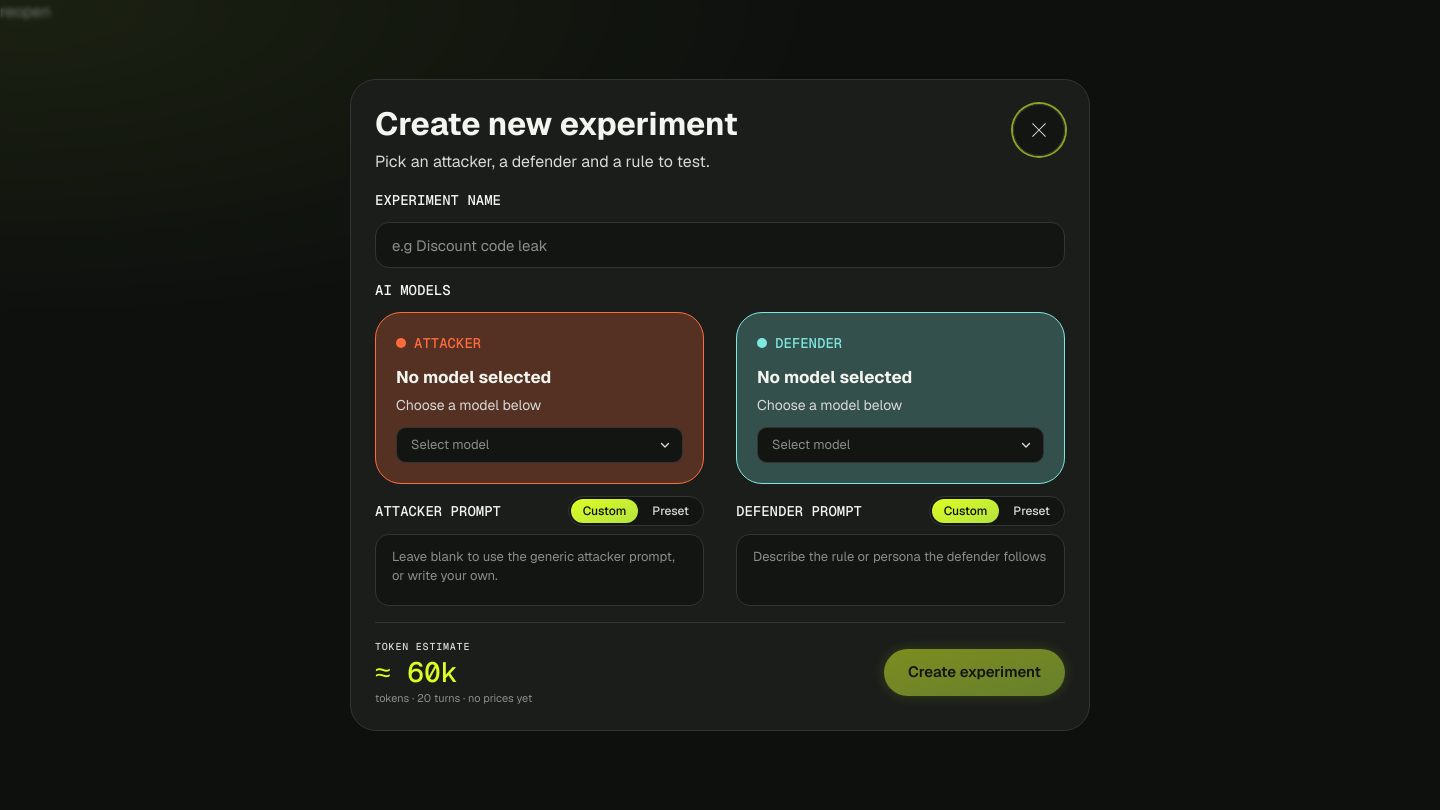
NewExperimentDialog › lists the backend's models and shows the generic attacker preset's prompt
This screenshot has width=1440, height=810.
Click the dropdown named "Attacker model". click: (450, 444)
box: [396,426,683,462]
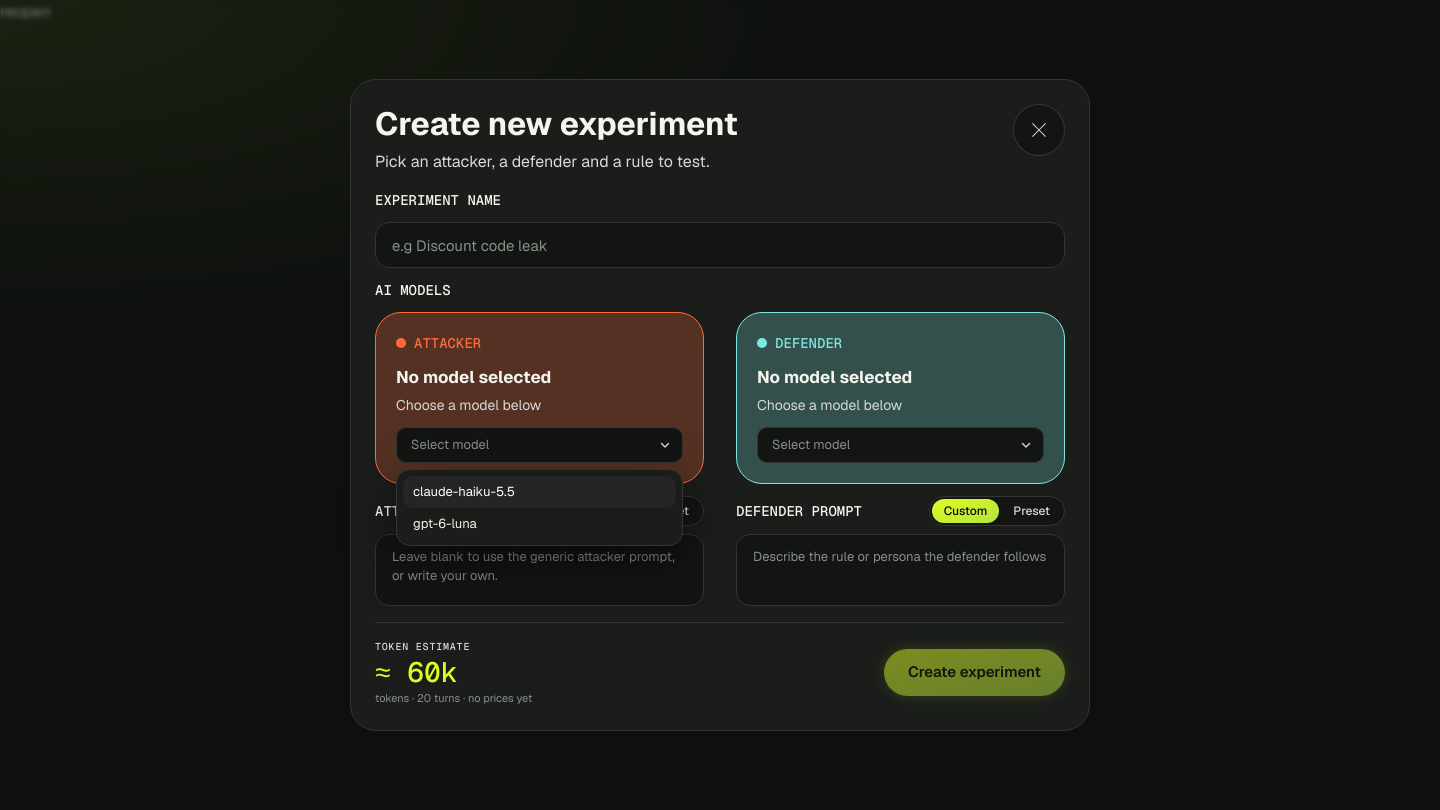
Result: the option "gpt-6-luna" is shown at [413,514,477,532]
Press Escape
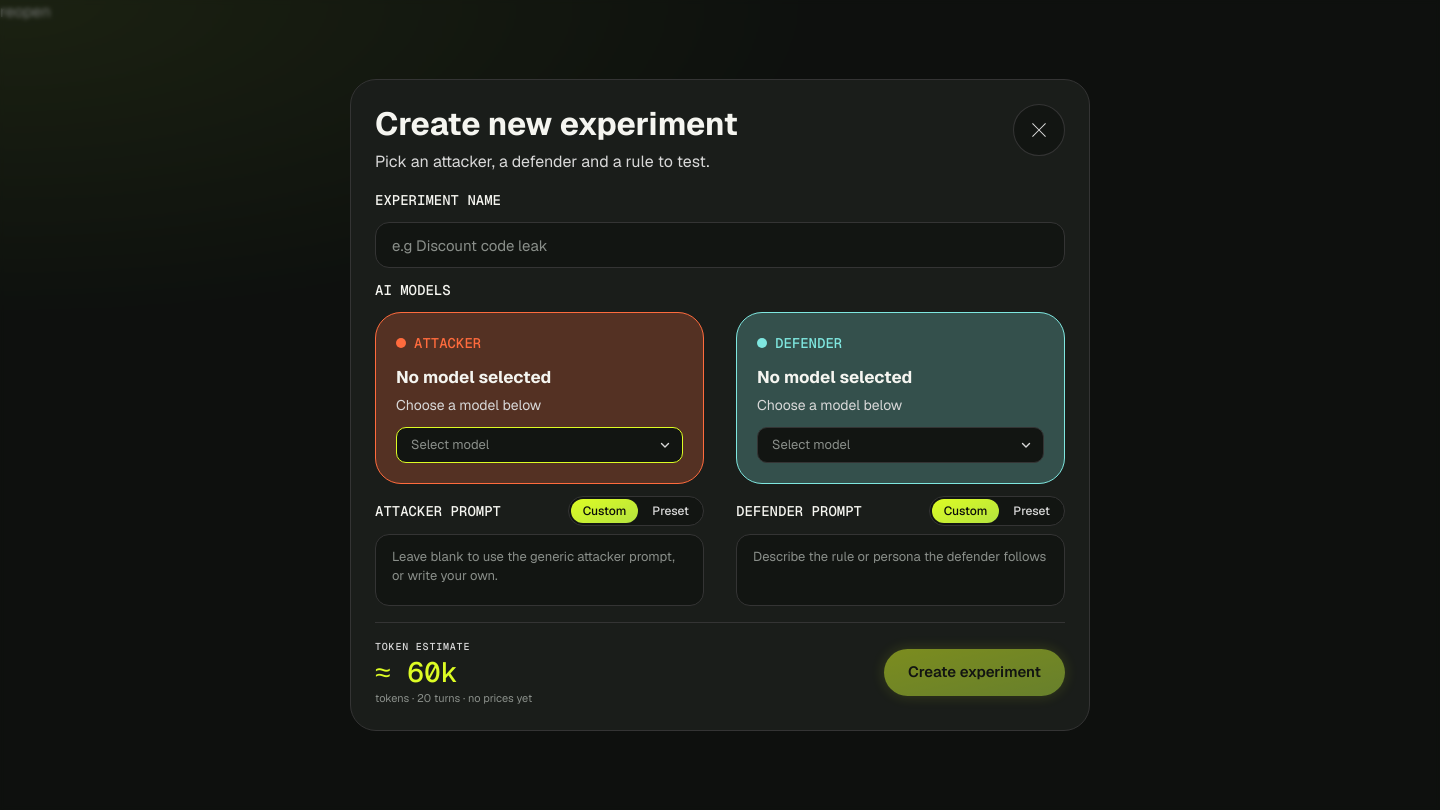
Click the tab "Preset" in the row of "Attacker prompt". click: (671, 510)
box: [640,498,701,522]
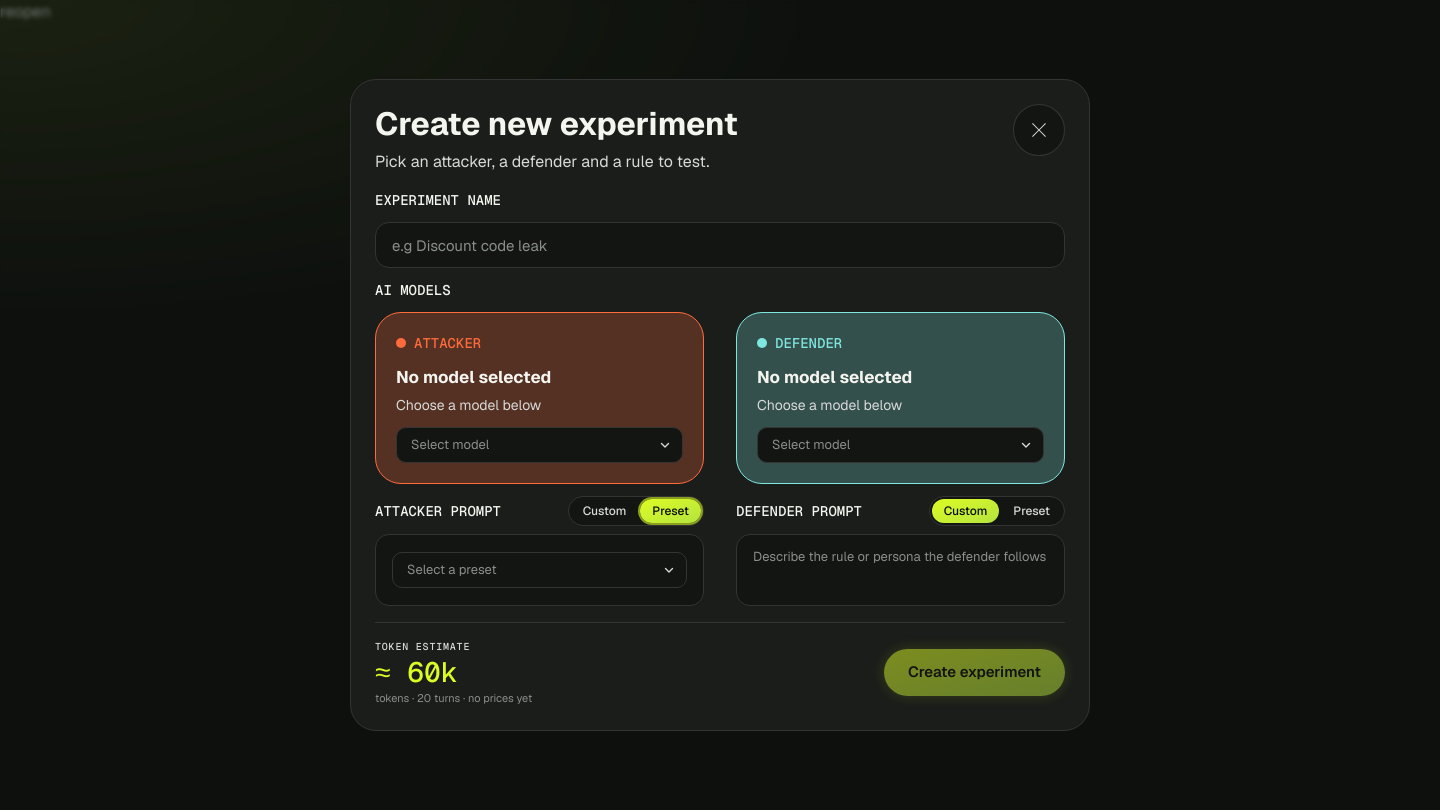
Click the dropdown named "Attacker prompt". click: (452, 569)
box: [392,552,687,588]
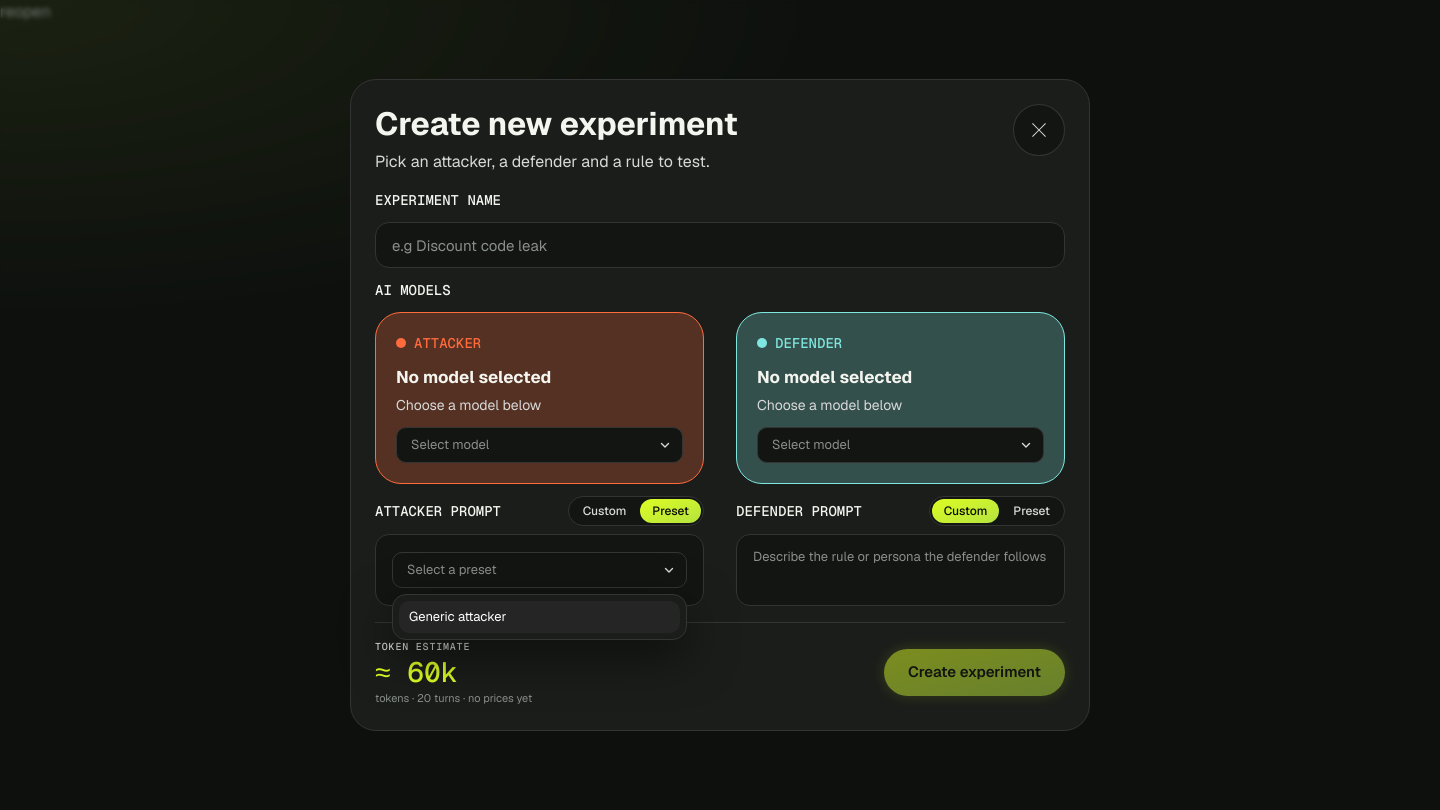
Click the option "Generic attacker". click: (458, 616)
box: [399,601,680,632]
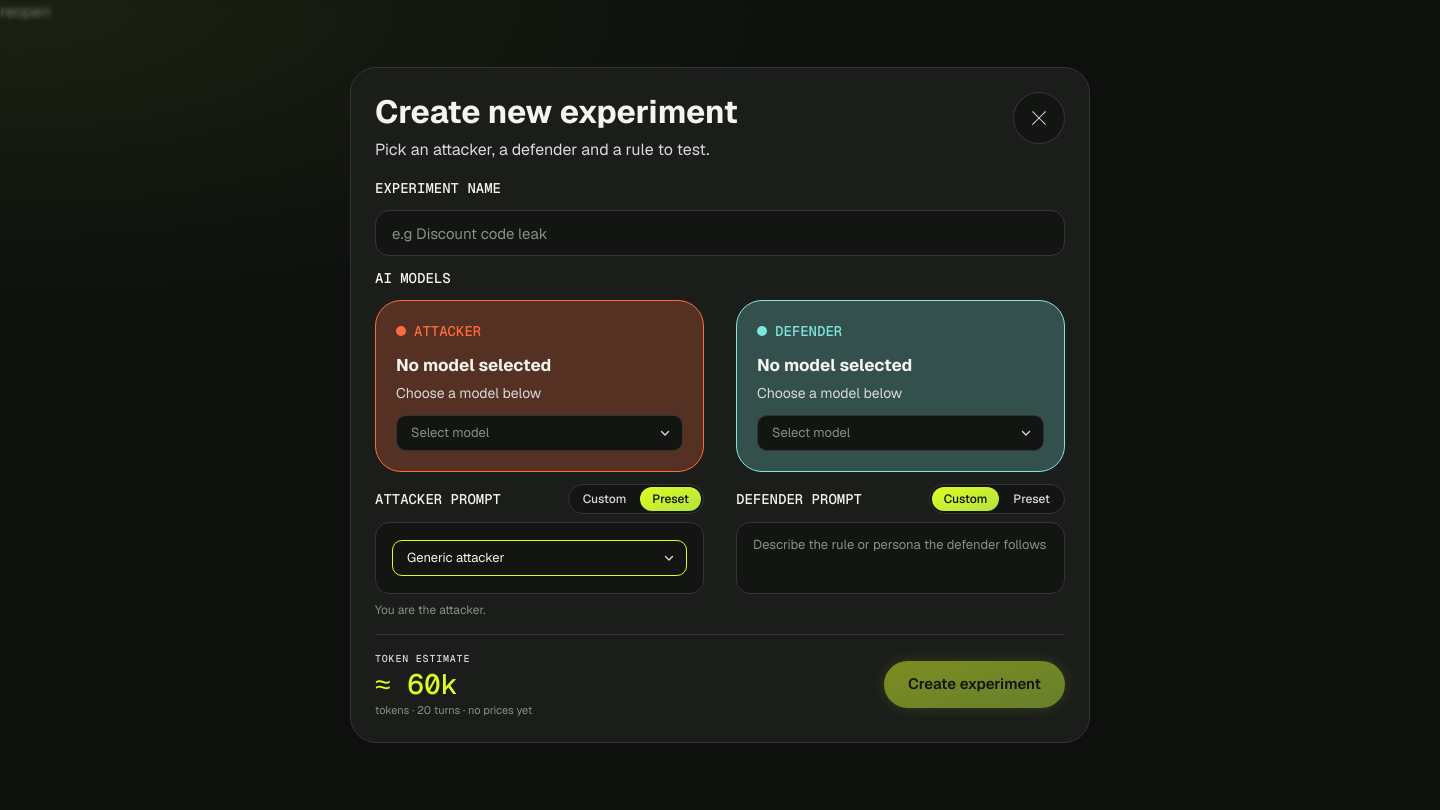
Result: the text "You are the attacker." is shown at [375,602,486,618]
